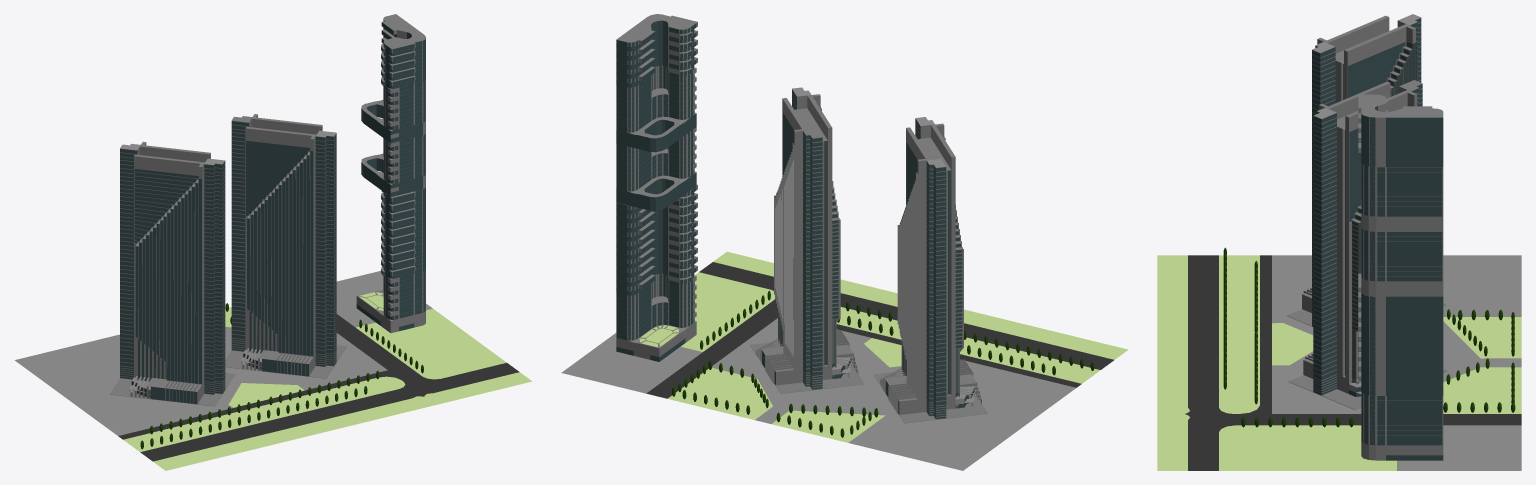
The model's file is sky peak towers.fbx.
3 renders of one model, left to right at view 1: azimuth 30°, elevation 25°; view 2: azimuth 150°, elevation 25°; view 3: azimuth 270°, elevation 25°, orthographic. The views are drawn at different scales.
Parts seen in each view (by area): view 1: Plane, Cube.004, Cube.019, Cube.021, Cube.007, Cube.020; view 2: Plane, Cube.004, Cube.021, Cube.020, Cube.007, Cube.019; view 3: Plane, Cube.021, Cube.004, Cube.007, Cube.020, Cube.019, Sphere.
Part boxes in pixels (x1=…): Plane: x1=14, y1=271, x2=532, y2=470; Cube.004: x1=225, y1=114, x2=346, y2=378; Cube.019: x1=109, y1=154, x2=225, y2=406; Cube.021: x1=361, y1=14, x2=425, y2=196; Cube.007: x1=356, y1=172, x2=425, y2=333; Cube.020: x1=120, y1=141, x2=235, y2=389; Plane: x1=561, y1=251, x2=1128, y2=470; Cube.004: x1=750, y1=87, x2=864, y2=393; Cube.021: x1=616, y1=14, x2=697, y2=210; Cube.020: x1=873, y1=127, x2=946, y2=423; Cube.007: x1=616, y1=184, x2=697, y2=361; Cube.019: x1=915, y1=117, x2=987, y2=418; Plane: x1=1157, y1=255, x2=1521, y2=470; Cube.021: x1=1358, y1=94, x2=1443, y2=296; Cube.004: x1=1288, y1=80, x2=1447, y2=410; Cube.007: x1=1358, y1=273, x2=1443, y2=460; Cube.020: x1=1335, y1=14, x2=1446, y2=306; Cube.019: x1=1287, y1=15, x2=1389, y2=326; Sphere: x1=1241, y1=417, x2=1353, y2=427.
Bounding box in the file's own units: 28000 × 20787 × 20000.
